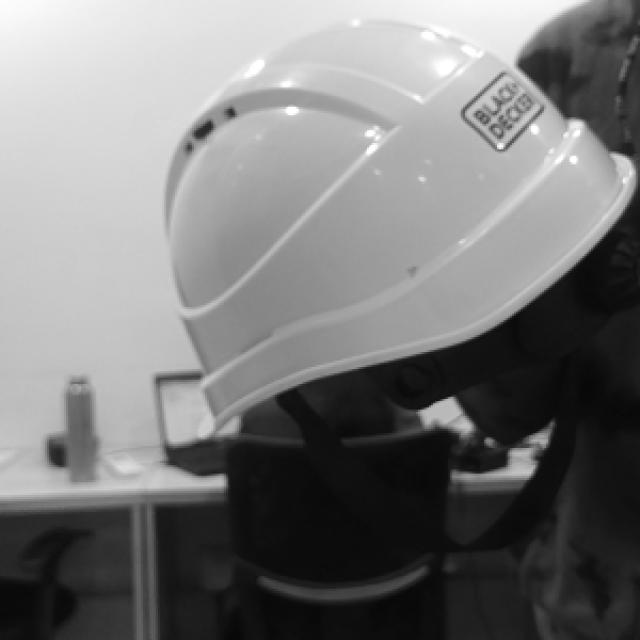safety_helmet: (165, 19, 637, 442)
